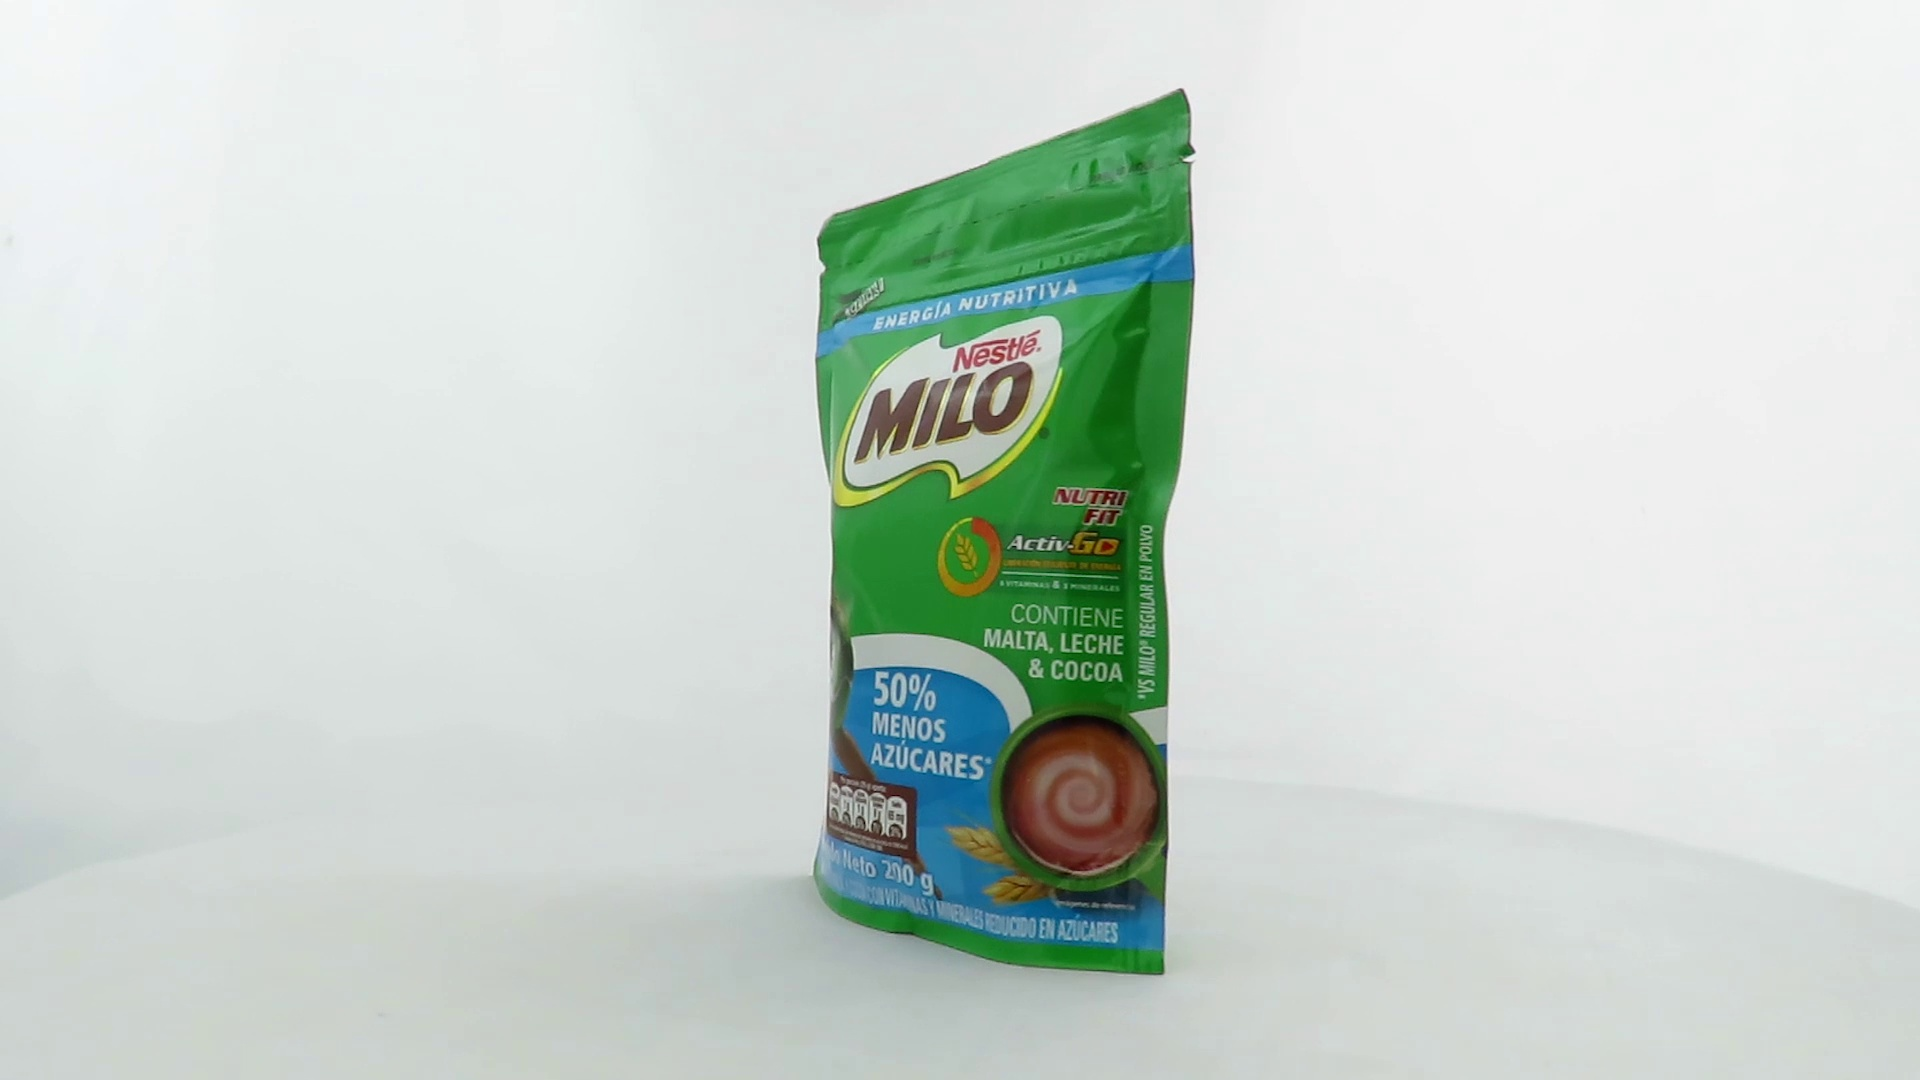COL0170205DYP20000: (787, 83, 1203, 982)
